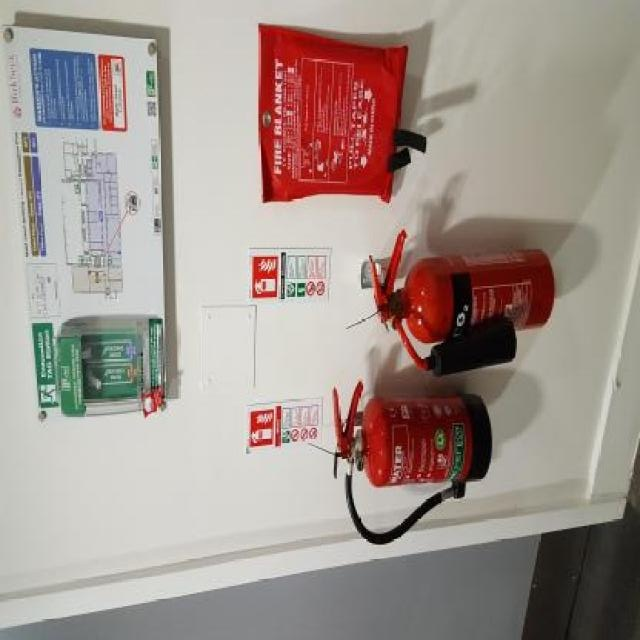fire extinguisher: (330, 373, 490, 549), (369, 232, 553, 376)
